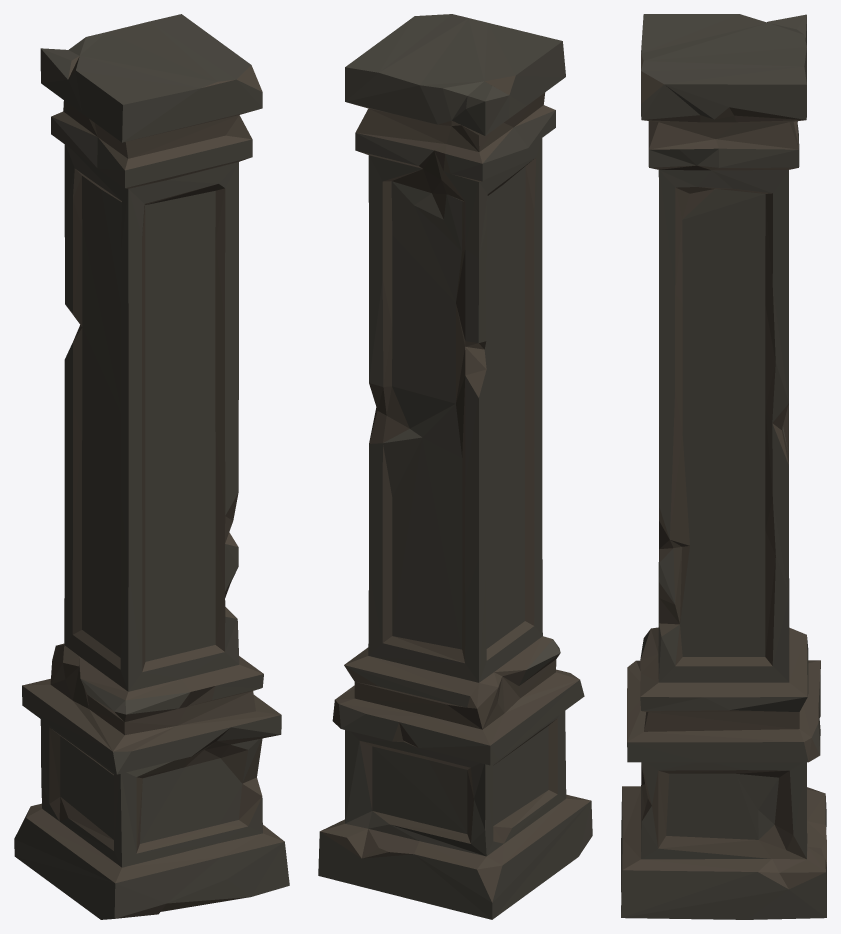
3 renders of one model, left to right at view 1: azimuth 30°, elevation 25°; view 2: azimuth 150°, elevation 25°; view 3: azimuth 270°, elevation 25°, orthographic. The views are drawn at different scales.
Visible parts, largest first — view 1: SM_Prop_Pillar_01; view 2: SM_Prop_Pillar_01; view 3: SM_Prop_Pillar_01.
Part boxes in pixels (left/top/right/bottom): SM_Prop_Pillar_01: left=14, top=14, right=289, bottom=919; SM_Prop_Pillar_01: left=318, top=14, right=592, bottom=919; SM_Prop_Pillar_01: left=621, top=14, right=826, bottom=919.
Bounding box in the file's own units: 0.6337 × 2.81 × 0.6337.
1 material, 1 textured.
